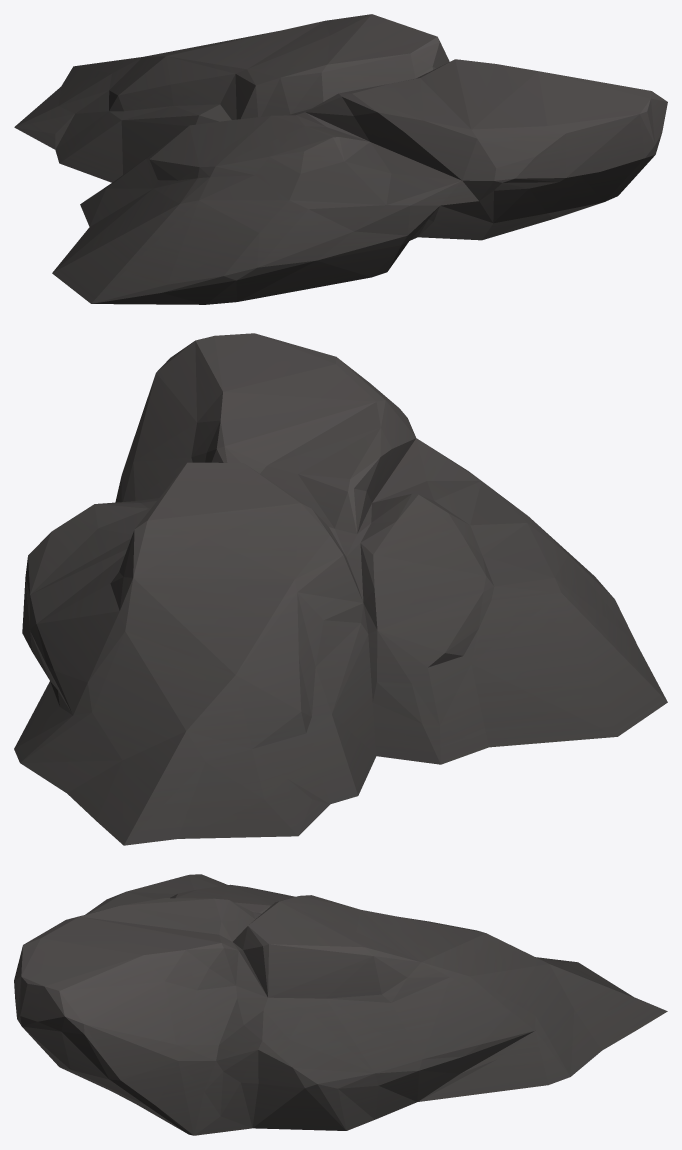
Rendered from ZLP_Rock_E_5.FBX.
3 views of the same model, one above another, from view 1: azimuth 30°, elevation 25°; view 2: azimuth 150°, elevation 25°; view 3: azimuth 270°, elevation 25° (orthographic). The views are drawn at different scales.
Parts seen in each view (by area): view 1: ZLP_Rock_E_5; view 2: ZLP_Rock_E_5; view 3: ZLP_Rock_E_5.
Boxes of the visible parts, <box> form: ZLP_Rock_E_5: <box>14,14,667,304</box>; ZLP_Rock_E_5: <box>14,333,667,845</box>; ZLP_Rock_E_5: <box>14,874,667,1135</box>.
Size of the model in its own units: 326 by 92.13 by 379.
